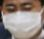with_mask: (1, 1, 44, 39)
